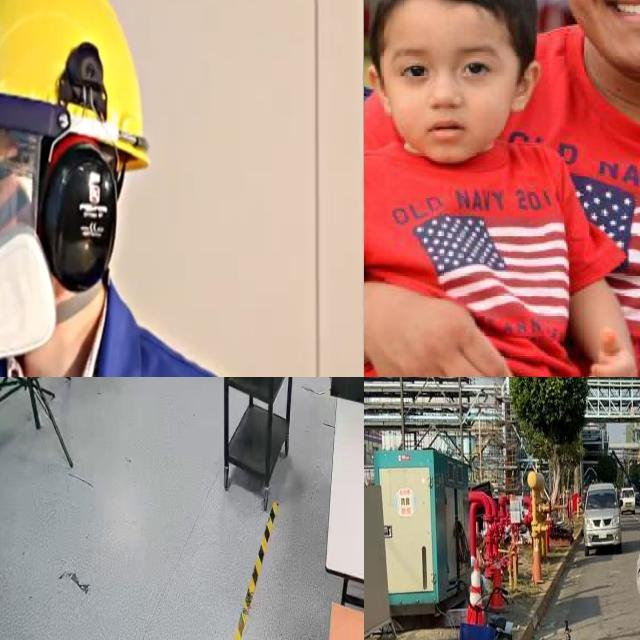Ear-protection: (46, 122, 116, 290)
No_Ear-Protection: (512, 60, 540, 116)
No_Glasses: (378, 36, 507, 90)
face_nomask: (384, 51, 502, 148)
hand_noglove: (377, 288, 525, 377), (577, 323, 640, 377)
head_helmet: (0, 0, 150, 111)
head_nohelmet: (377, 0, 519, 23)
person: (0, 0, 283, 377), (364, 0, 595, 377), (524, 0, 640, 377)
